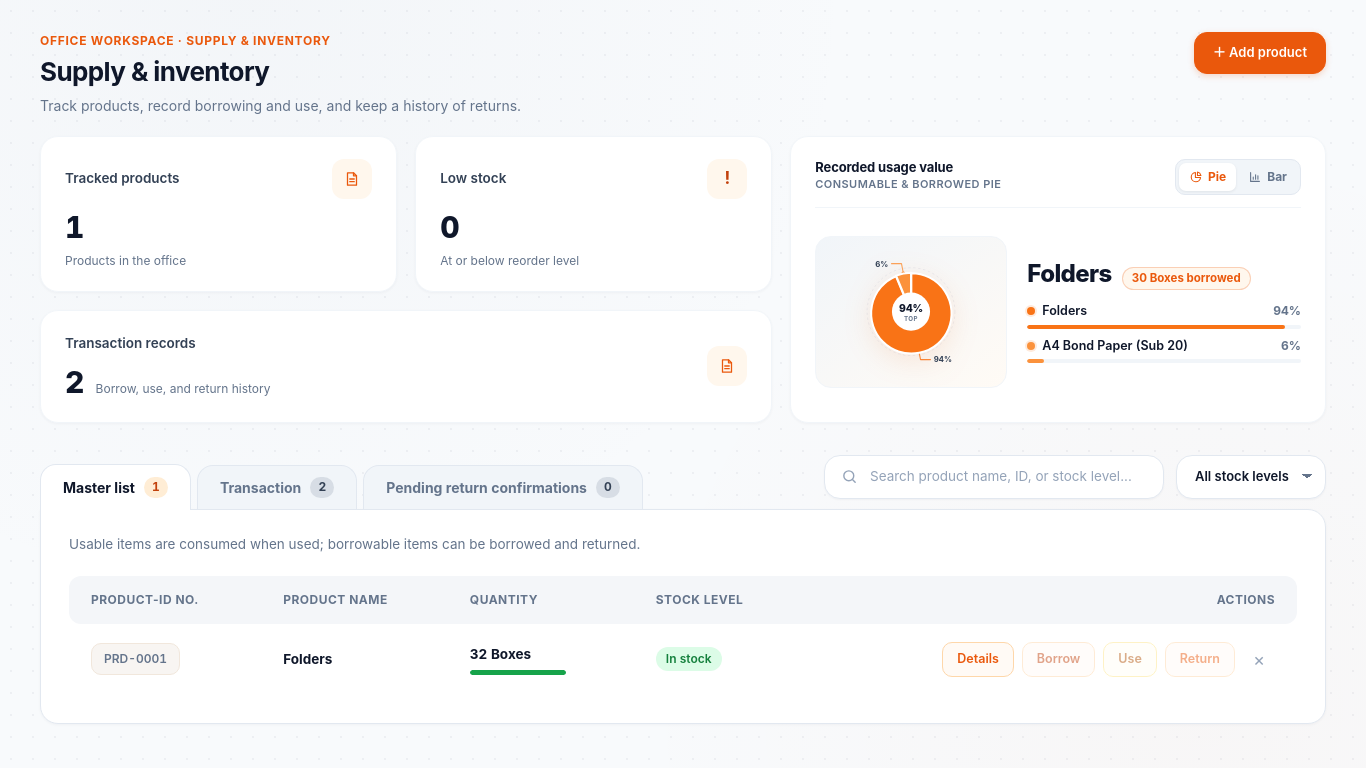
Test: renders bento metrics and switches between Master list and Transaction folder tabs
Expected: the heading "Supply & inventory" is shown, [40,56,269,87]
Expected: the text "Tracked products" is shown, [65,168,180,189]
Note: Switch between Pie chart and Bar graph on the Recorded usage value card
Click the button "Bar" at (1268, 176), box [1238,162,1297,190]
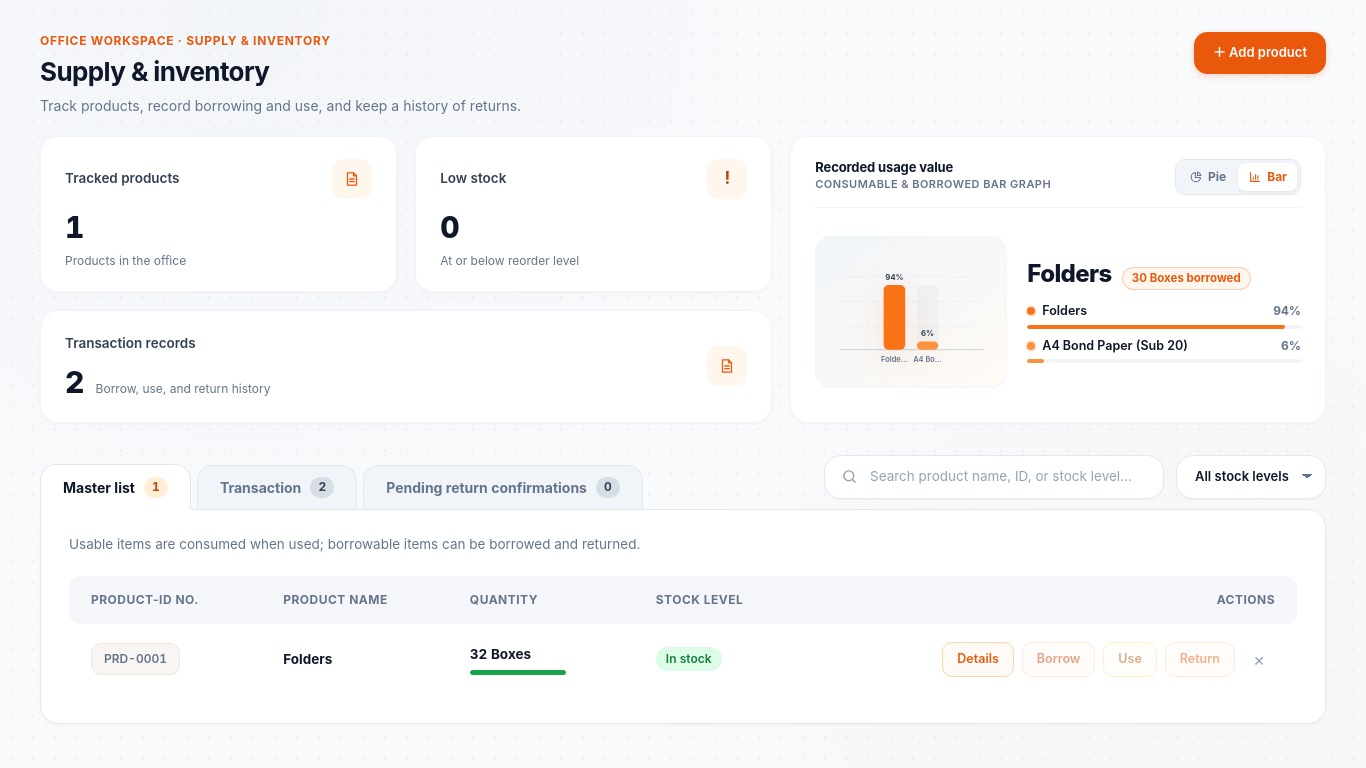
Expected: the search field with placeholder "Search product name, ID, or stock level..." is shown, [868,465,1147,488]
Expected: the text "Consumable & borrowed bar graph" is shown, [815,177,1051,192]
Note: Switch to Transaction tab
Click the tab "Transaction 2" at (277, 486), box [197,464,357,508]
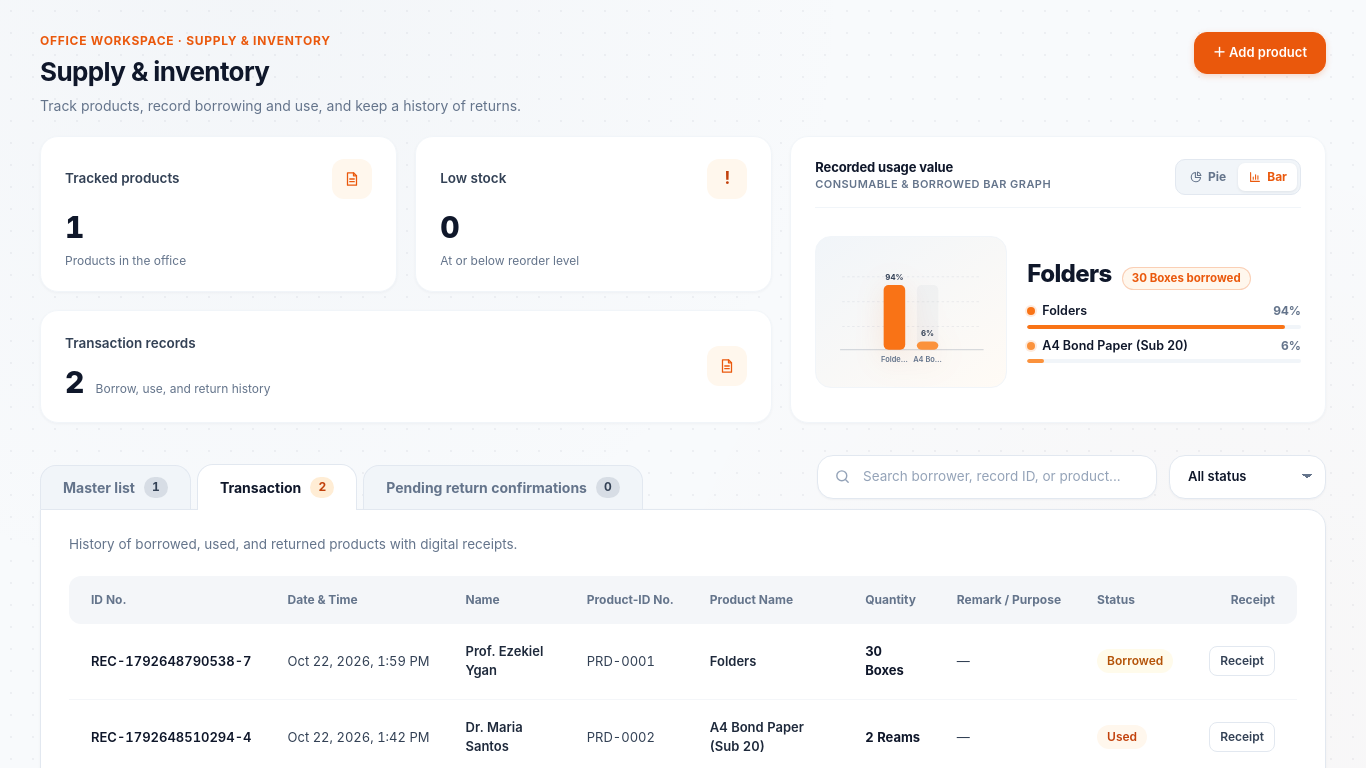
Expected: the search field with placeholder "Search borrower, record ID, or product..." is shown, [861,465,1140,488]
Expected: the text "REC-1792648790538-7" is shown, [91,652,252,671]
Expected: the text "Prof. Ezekiel Ygan" is shown, [448,624,569,700]
Note: Filter transaction records by status
Select "Used" in the dropdown named "filter status" at (1248, 476), box [1169,454,1326,498]
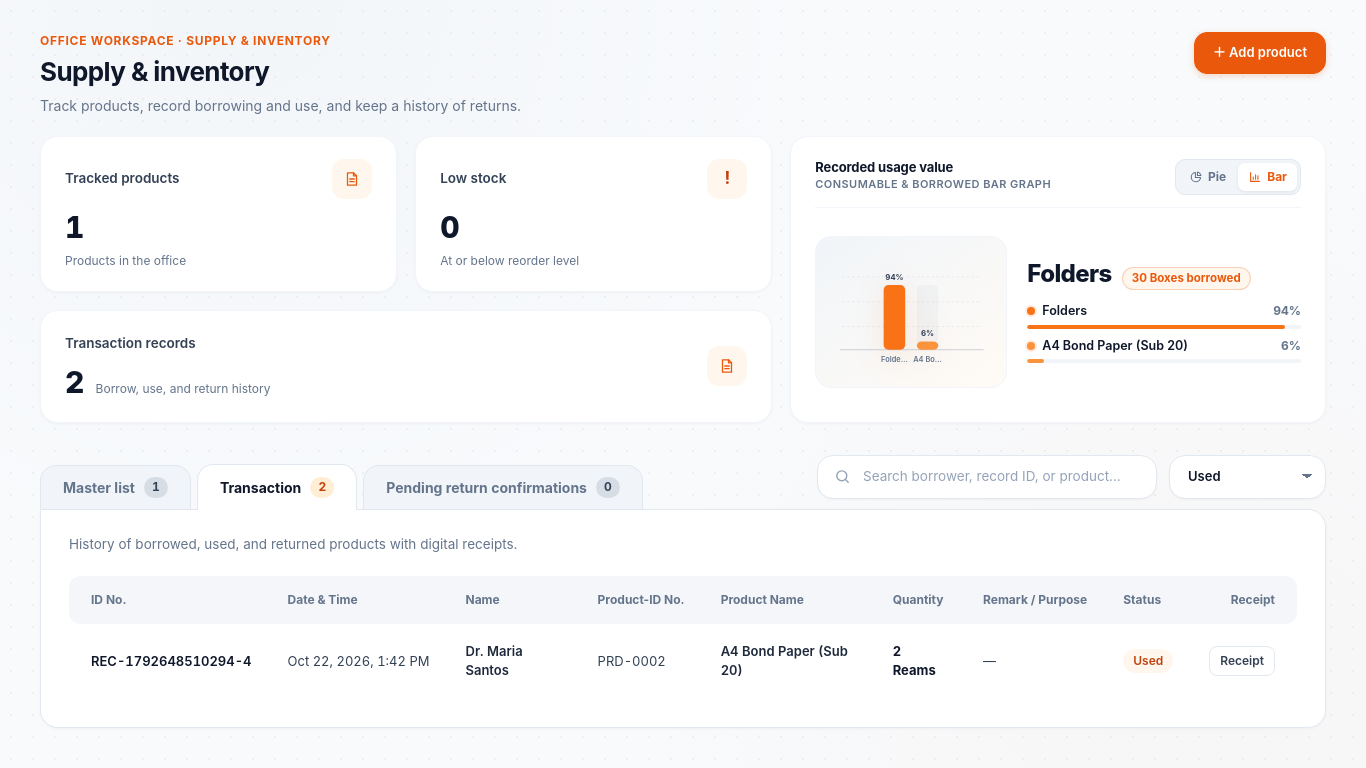
Expected: the text "Dr. Maria Santos" is shown, [448,624,580,699]
Expected: the text "REC-1792648790538-7" is gone
